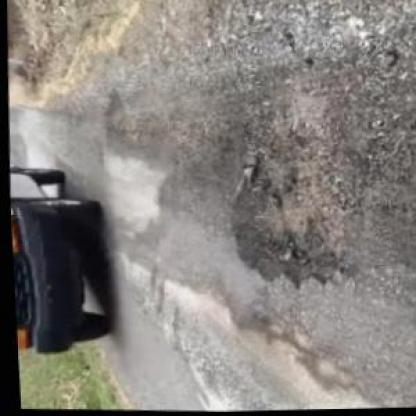pothole: (219, 141, 361, 296)
